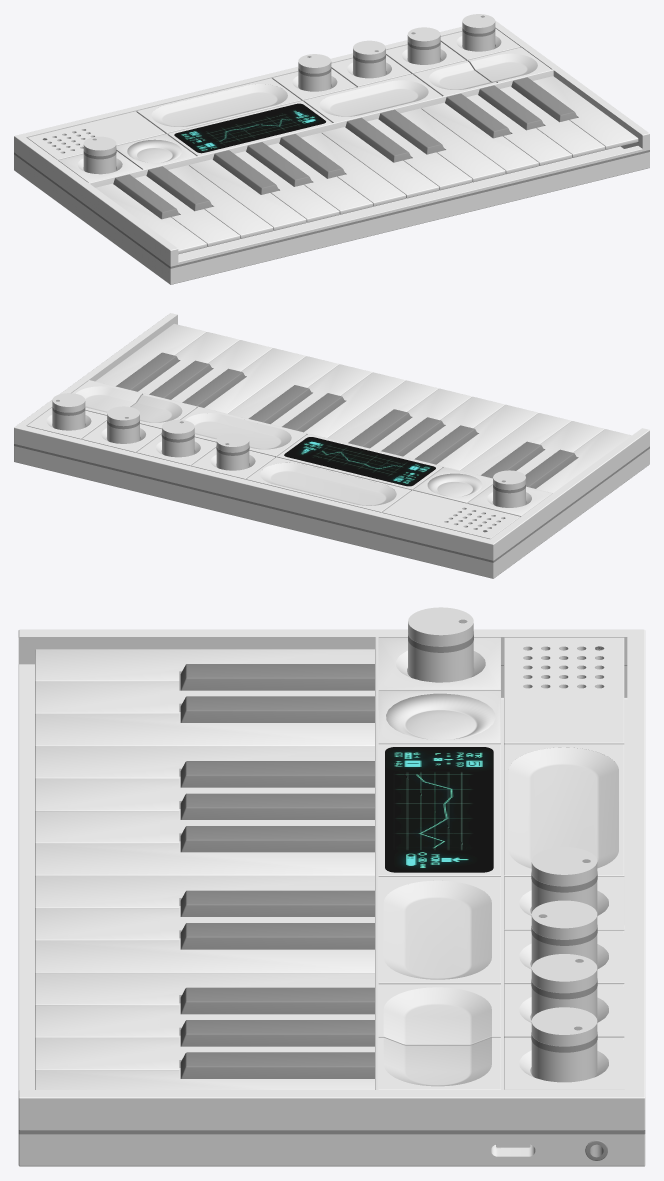
The model's file is keys_cleaner.glb.
3 views of the same model, one above another, from view 1: azimuth 30°, elevation 25°; view 2: azimuth 150°, elevation 25°; view 3: azimuth 270°, elevation 25° (orthographic). The views are drawn at different scales.
Visible parts, largest first — view 1: Blancas, Body, Front Section, Negras, Srceen_Panel, Array, Panel.002, Hundido.001, Speaker_Panel, Tapa sector keys, Hundido, Knob_0_Main (+9 smaller); view 2: Body, Blancas, Negras, Srceen_Panel, Array, Speaker_Panel, Hundido.001, Panel.002, Hundido, Knob_Array_1, Knob_Array_4, Knob_0_Main (+8 smaller); view 3: Blancas, Body, Negras, Srceen_Panel, Panel.002, Speaker_Panel, Array, Hundido.001, Hundido, Front Section, Knob_Array_4, Knob_0_Main (+9 smaller).
Part boxes in pixels (x1,y1,x2,y2): Blancas: [95, 76, 638, 254]; Body: [14, 20, 649, 284]; Front Section: [178, 146, 642, 282]; Negras: [113, 77, 577, 219]; Srceen_Panel: [167, 101, 332, 155]; Array: [272, 28, 520, 101]; Panel.002: [413, 47, 551, 96]; Hundido.001: [151, 84, 287, 126]; Speaker_Panel: [27, 111, 165, 160]; Tapa sector keys: [88, 69, 553, 187]; Hundido: [319, 80, 428, 116]; Knob_0_Main: [83, 136, 116, 174]; Body: [14, 313, 649, 578]; Blancas: [95, 323, 631, 492]; Negras: [116, 352, 577, 488]; Srceen_Panel: [277, 434, 442, 490]; Array: [27, 407, 275, 479]; Speaker_Panel: [382, 490, 519, 538]; Hundido.001: [260, 462, 396, 505]; Panel.002: [72, 380, 196, 428]; Hundido: [185, 413, 291, 449]; Knob_Array_1: [216, 433, 249, 470]; Knob_Array_4: [52, 393, 85, 430]; Knob_0_Main: [493, 470, 525, 507]; Blancas: [35, 649, 374, 1089]; Body: [18, 629, 645, 1166]; Negras: [180, 664, 374, 1078]; Srceen_Panel: [378, 744, 500, 876]; Panel.002: [378, 984, 500, 1148]; Speaker_Panel: [504, 637, 624, 744]; Array: [504, 876, 624, 1148]; Hundido.001: [508, 747, 618, 868]; Hundido: [383, 880, 491, 979]; Front Section: [18, 664, 34, 1090]; Knob_Array_4: [531, 1007, 597, 1082]; Knob_0_Main: [408, 607, 473, 682].
Bounding box in the file's own units: 5 × 0.5558 × 2.82.
Materials: 7 (1 with a texture image).
